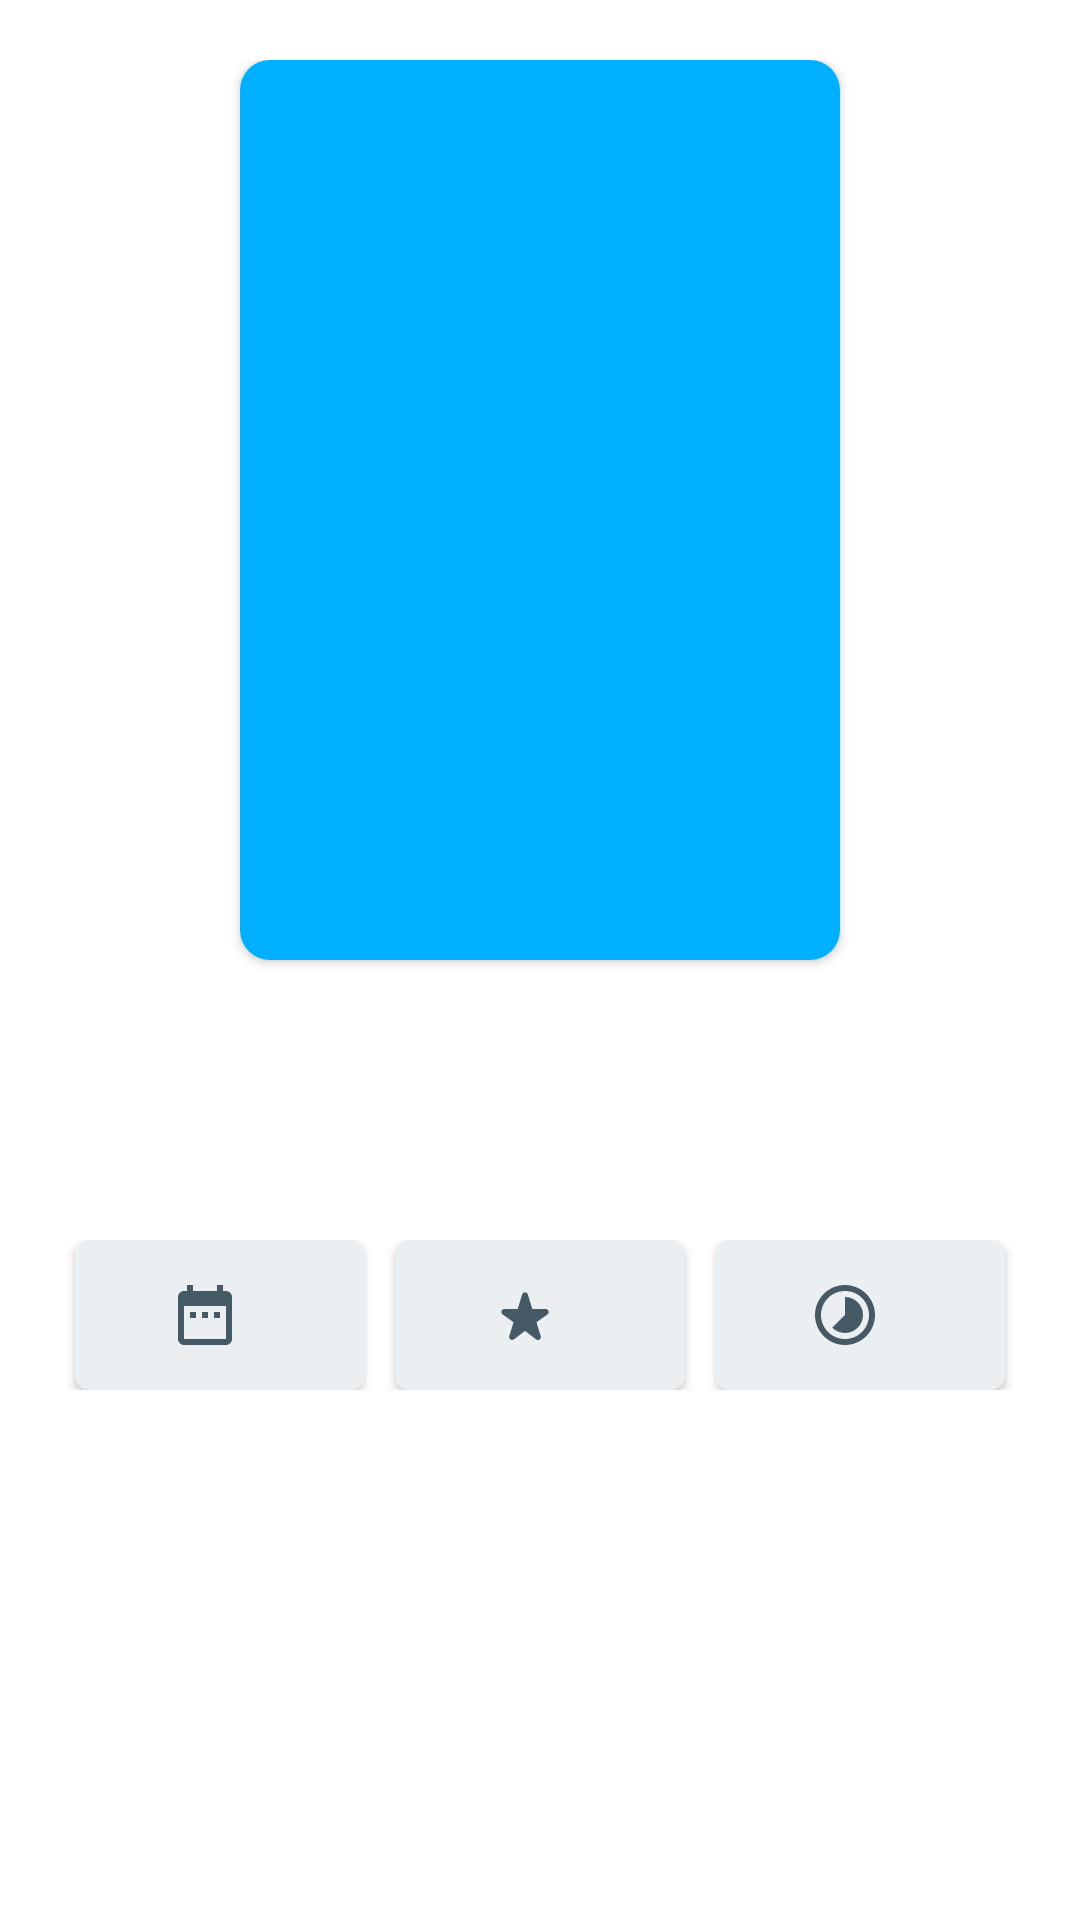

Locate icon controls on the screen. Image size 1080w x 1920h, boxes as (x1, y1, x2, y2).
date range: (178, 1285, 232, 1345)
star rate: (501, 1292, 549, 1340)
timelapse: (815, 1285, 875, 1345)
